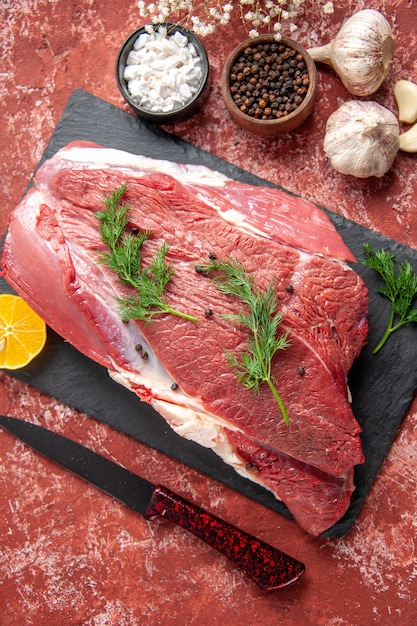knife: (0, 415, 307, 593)
